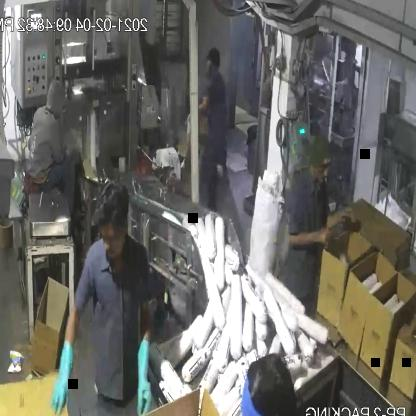glove: (44, 293, 100, 416), (124, 313, 169, 416)
no_glove: (280, 217, 344, 260), (318, 208, 359, 233), (193, 93, 209, 116)
